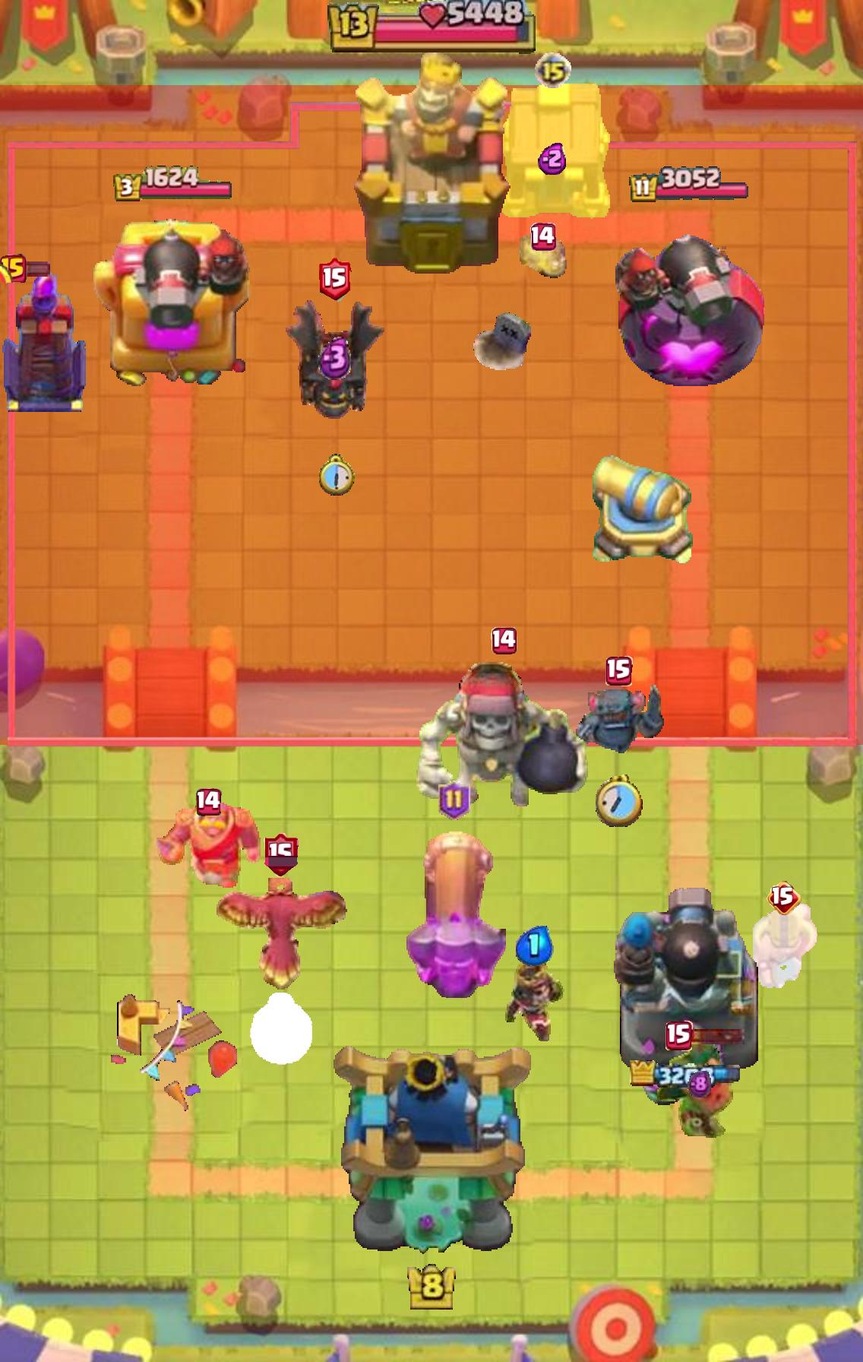bar: (689, 1027, 745, 1045), (22, 261, 51, 277)
bar-level: (264, 833, 299, 877), (319, 257, 352, 302), (438, 781, 470, 820), (767, 881, 801, 916), (605, 656, 633, 686), (665, 1021, 693, 1051), (0, 254, 27, 284), (491, 627, 518, 654), (530, 223, 556, 251), (196, 789, 222, 817)
